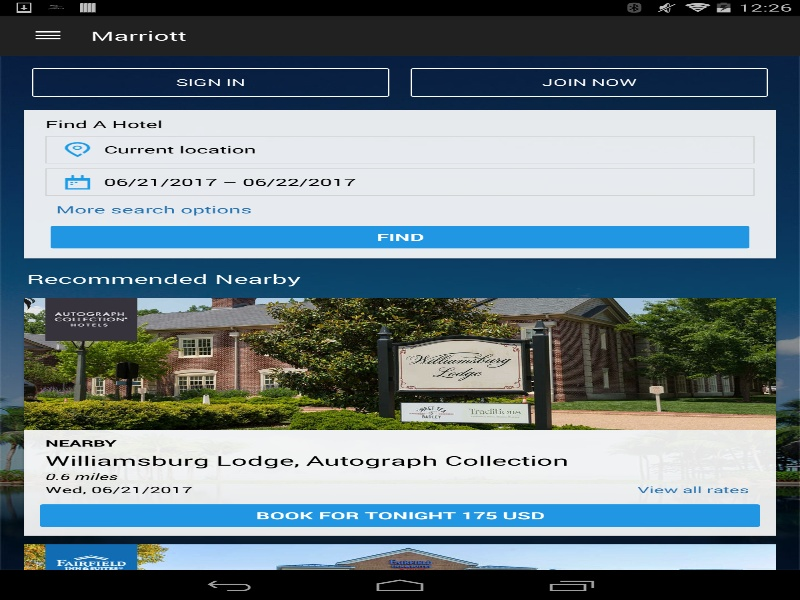Button: (34, 500, 765, 530), (45, 222, 754, 252), (410, 68, 768, 96), (32, 68, 389, 96), (45, 197, 263, 222), (10, 15, 85, 55)
Input: (104, 142, 744, 156)
